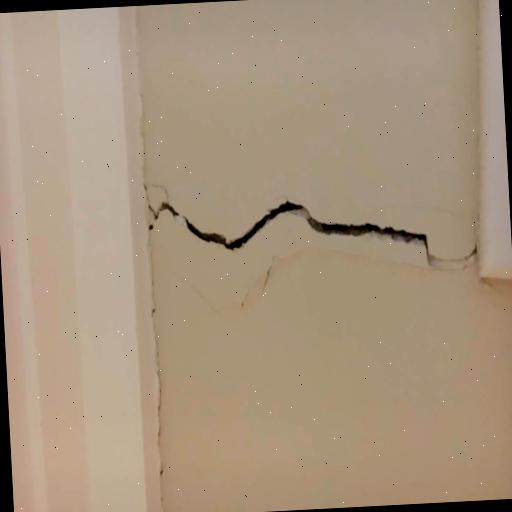spalling: (152, 195, 437, 269)
